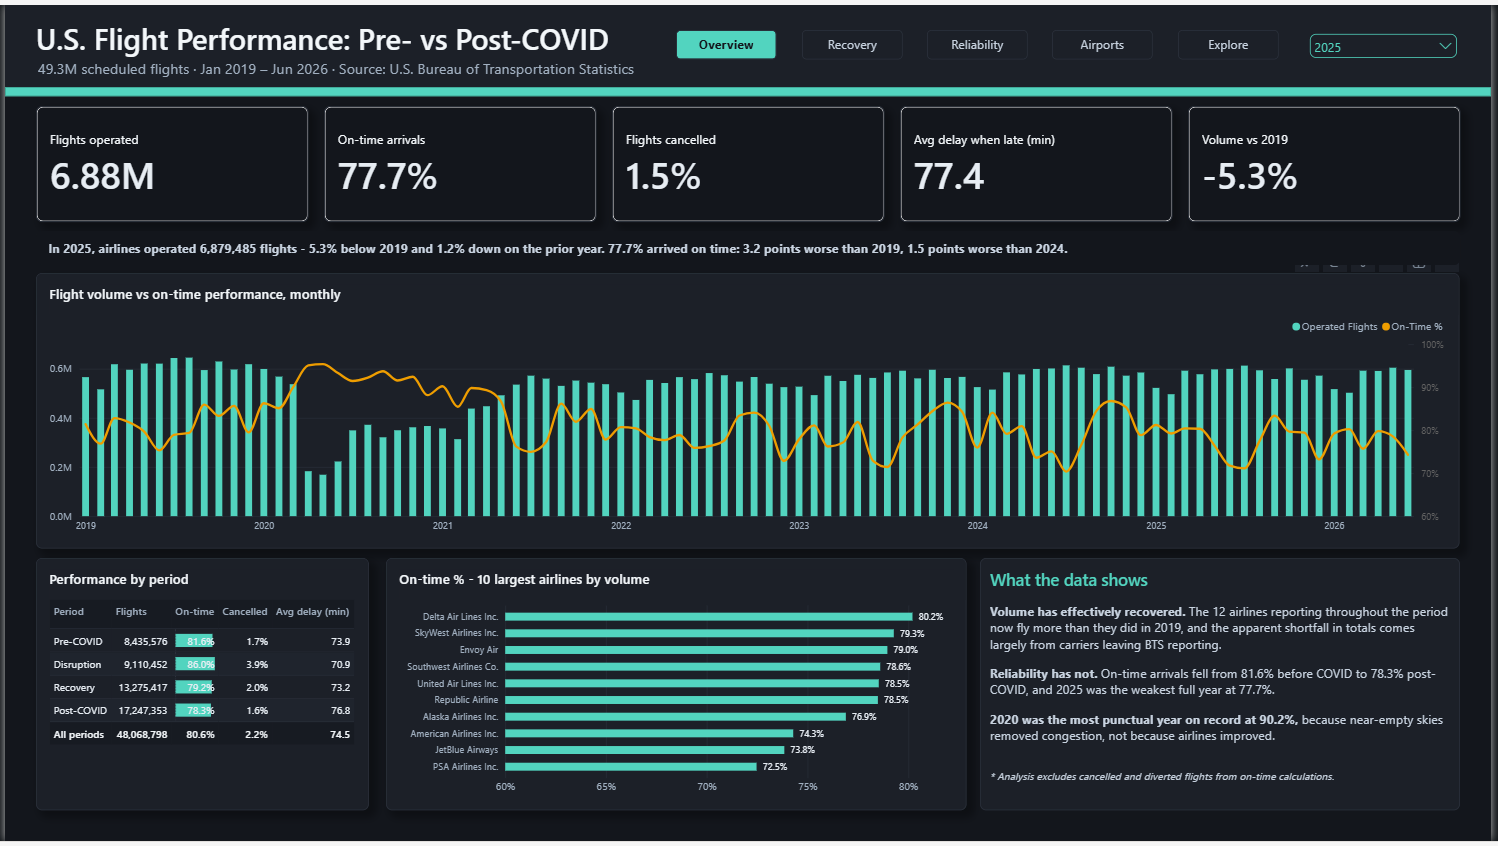

This screenshot's page, from the dashboard's own definition file:
{"tool":"powerbi","page":{"name":"Overview","canvas":[1920,1080],"ordinal":0},"visuals":[{"type":"shape","box":[0,0,1920,110],"z":0},{"type":"shape","box":[0,106,1920,12],"z":1000},{"type":"textbox","box":[39.9,18.6,1013.5,66.5],"z":2000},{"type":"textbox","box":[42,70,900,30],"z":3000},{"type":"cardVisual","fields":{"Data":["_Measures.Operated Flights"]},"box":[40,130,352,150],"z":4000},{"type":"cardVisual","fields":{"Data":["_Measures.Recovery vs 2019 %"]},"box":[1528,130,352,150],"z":5000},{"type":"cardVisual","fields":{"Data":["_Measures.Avg Delay When Late"]},"box":[1156,130,352,150],"z":6000},{"type":"cardVisual","fields":{"Data":["_Measures.Cancellation %"]},"box":[784,130,352,150],"z":7000},{"type":"cardVisual","fields":{"Data":["_Measures.On-Time %"]},"box":[412,130,352,150],"z":8000},{"type":"slicer","fields":{"Values":["dim_date.year"]},"box":[1681.2,31.9,199.5,45.2],"z":9000},{"type":"lineStackedColumnComboChart","title":"Flight volume vs on-time performance, monthly","fields":{"Category":["dim_date.month_start_date"],"Y":["_Measures.Operated Flights"],"Y2":["_Measures.On-Time %"]},"box":[39.9,345.8,1839.5,356.5],"z":10000},{"type":"tableEx","title":"Performance by period","fields":{"Values":["dim_date.covid_period","_Measures.Operated Flights","_Measures.On-Time %","_Measures.Cancellation %","_Measures.Avg Delay When Late"]},"box":[39.9,714.2,429.6,325.9],"z":11000},{"type":"textbox","box":[1259.6,714.2,619.8,325.9],"z":12000},{"type":"clusteredBarChart","title":"On-time % - 10 largest airlines by volume","fields":{"Category":["dim_airline.airline_name"],"Y":["_Measures.On-Time %"]},"box":[492.1,714.2,750.1,325.9],"z":13000},{"type":"cardVisual","fields":{"Data":["_Measures.Narrative Overview"]},"box":[40,292,1840,44],"z":14000},{"type":"actionButton","box":[867.2,31.9,130,38],"z":15000},{"type":"actionButton","box":[1029.1,31.9,130,38],"z":16000},{"type":"actionButton","box":[1353,31.9,130,38],"z":17000},{"type":"actionButton","box":[1191.1,31.9,130,38],"z":18000},{"type":"actionButton","box":[1514.9,31.9,130,38],"z":19000}]}

Visuals, with their boxes in screenshot pixels (x1, y1, x2, y2), scaled from the page's 1920x1080 canvas onto the 1498x846 screenshot:
shape: pyautogui.locateOnScreen(0, 0, 1497, 86)
shape: pyautogui.locateOnScreen(0, 83, 1497, 92)
textbox: pyautogui.locateOnScreen(31, 15, 822, 67)
textbox: pyautogui.locateOnScreen(33, 55, 735, 78)
cardVisual - _Measures.Operated Flights: pyautogui.locateOnScreen(31, 102, 306, 219)
cardVisual - _Measures.Recovery vs 2019 %: pyautogui.locateOnScreen(1192, 102, 1467, 219)
cardVisual - _Measures.Avg Delay When Late: pyautogui.locateOnScreen(902, 102, 1177, 219)
cardVisual - _Measures.Cancellation %: pyautogui.locateOnScreen(612, 102, 886, 219)
cardVisual - _Measures.On-Time %: pyautogui.locateOnScreen(321, 102, 596, 219)
slicer - dim_date.year: pyautogui.locateOnScreen(1312, 25, 1467, 60)
"Flight volume vs on-time performance, monthly" lineStackedColumnComboChart: pyautogui.locateOnScreen(31, 271, 1466, 550)
"Performance by period" tableEx: pyautogui.locateOnScreen(31, 559, 366, 815)
textbox: pyautogui.locateOnScreen(983, 559, 1466, 815)
"On-time % - 10 largest airlines by volume" clusteredBarChart: pyautogui.locateOnScreen(384, 559, 969, 815)
cardVisual - _Measures.Narrative Overview: pyautogui.locateOnScreen(31, 229, 1467, 263)
actionButton: pyautogui.locateOnScreen(677, 25, 778, 55)
actionButton: pyautogui.locateOnScreen(803, 25, 904, 55)
actionButton: pyautogui.locateOnScreen(1056, 25, 1157, 55)
actionButton: pyautogui.locateOnScreen(929, 25, 1031, 55)
actionButton: pyautogui.locateOnScreen(1182, 25, 1283, 55)
